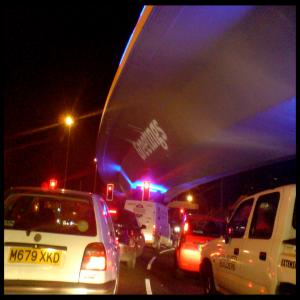Vehicle-registration-plate: (9, 248, 62, 264)
